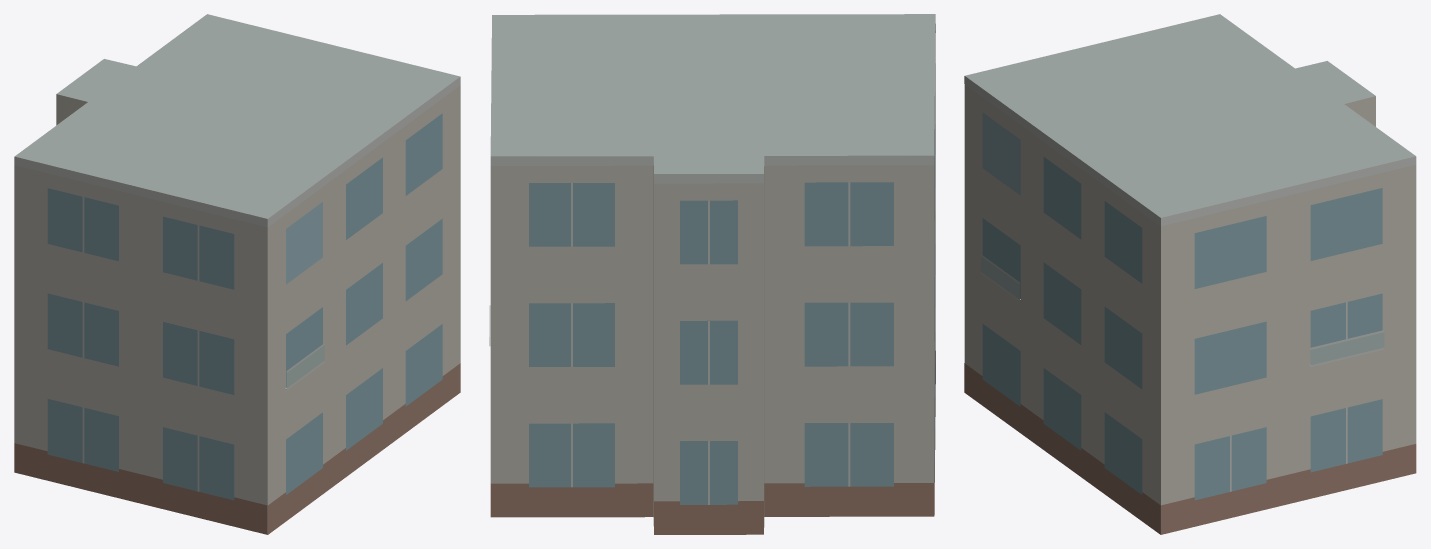
Rendered from survey-upis-32709352.glb.
3 views of the same model, side by side, from view 1: azimuth 30°, elevation 25°; view 2: azimuth 150°, elevation 25°; view 3: azimuth 270°, elevation 25° (orthographic). The views are drawn at different scales.
Visible parts, largest first — view 1: survey-upis-32709352.tmp; view 2: survey-upis-32709352.tmp; view 3: survey-upis-32709352.tmp.
Part boxes in pixels (x1,y1,x2,y2): survey-upis-32709352.tmp: (14, 14, 460, 534); survey-upis-32709352.tmp: (489, 14, 935, 534); survey-upis-32709352.tmp: (964, 14, 1416, 534).
Size of the model in its own units: 12.64 by 9.15 by 11.83.
